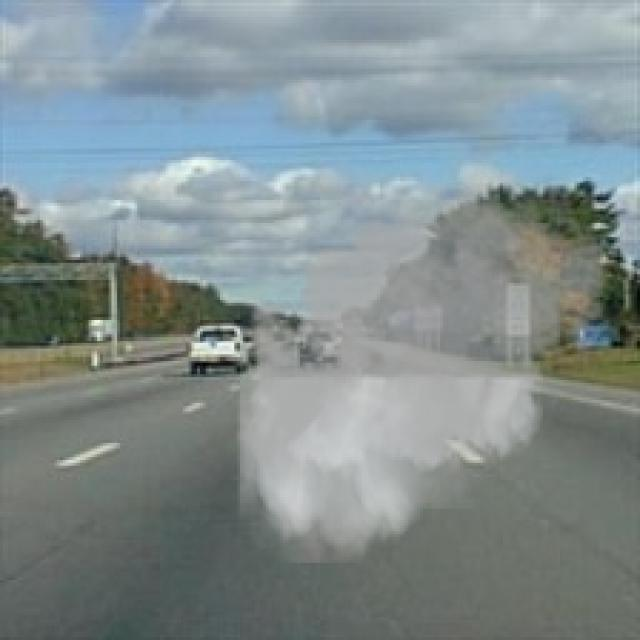smoke: (223, 168, 617, 563)
